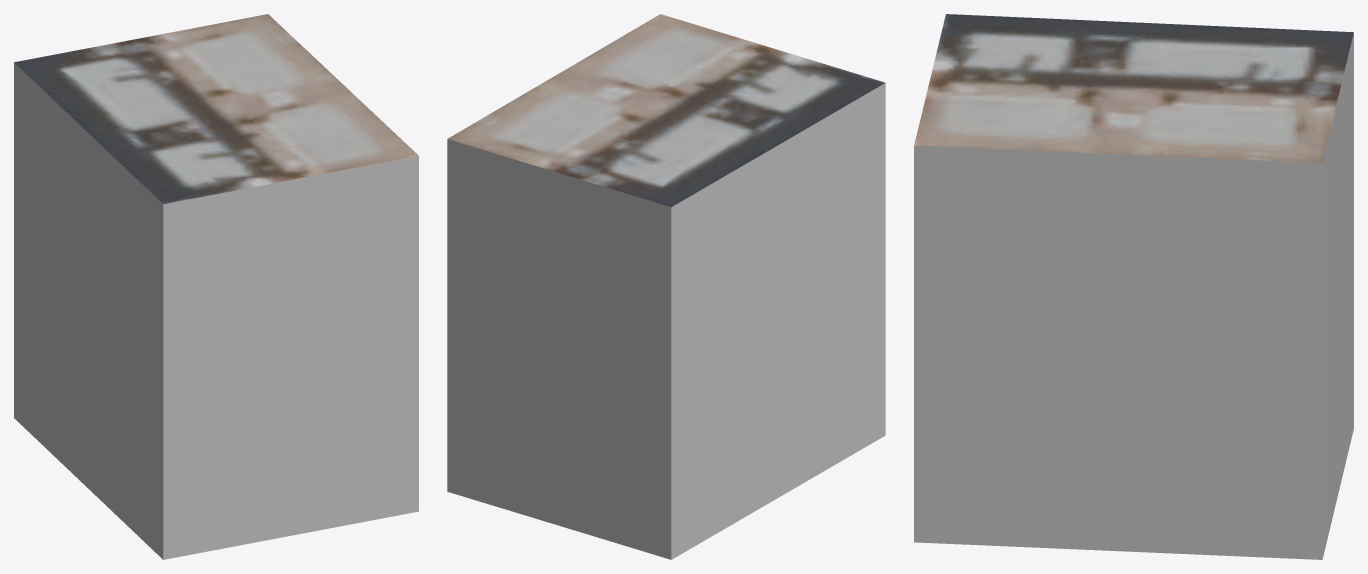
File: DEBW_0010007Txgd.gltf
3 views of the same model, side by side, from view 1: azimuth 30°, elevation 25°; view 2: azimuth 150°, elevation 25°; view 3: azimuth 270°, elevation 25° (orthographic). The views are drawn at different scales.
Visible parts, largest first — view 1: Z_UP; view 2: Z_UP; view 3: Z_UP.
Boxes of the visible parts, x1,y1,x2,y2 form: Z_UP: (14,14,418,559); Z_UP: (447,14,885,559); Z_UP: (914,14,1353,559).
Bounding box in the file's own units: 13.83 × 17.18 × 17.25.
Materials: 2 (1 with a texture image).
